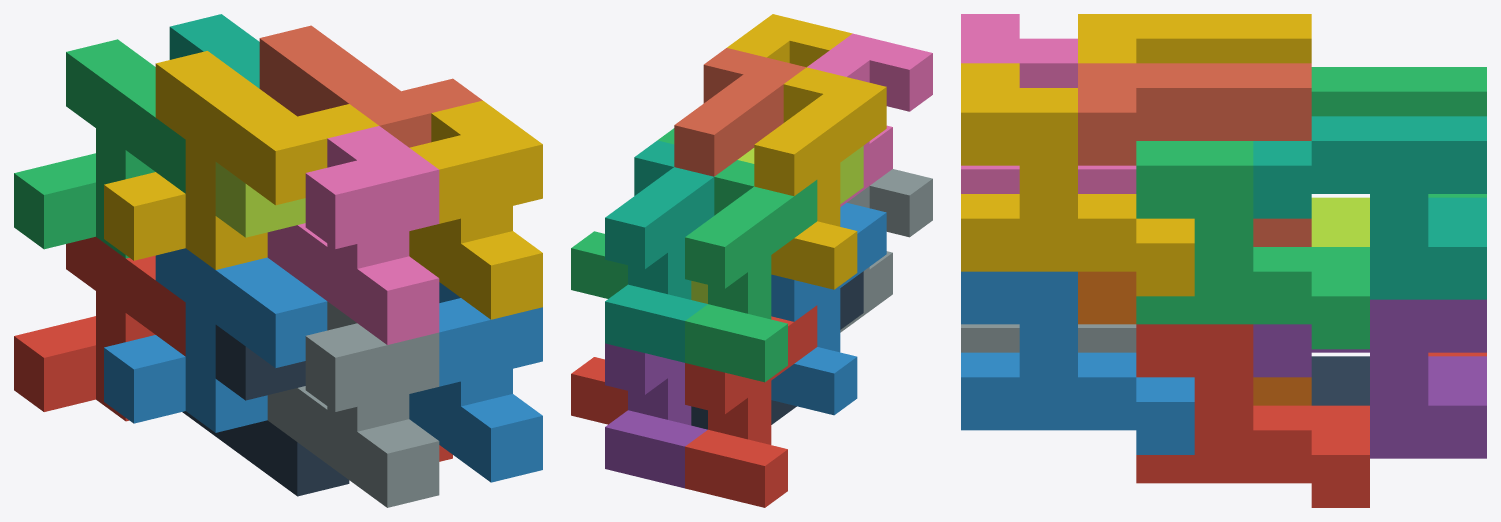
The model's file is tiling.obj.
3 renders of one model, left to right at view 1: azimuth 30°, elevation 25°; view 2: azimuth 150°, elevation 25°; view 3: azimuth 270°, elevation 25°, orthographic. The views are drawn at different scales.
Visible parts, largest first — view 1: copy_1_domain_4, copy_2_domain_4, copy_1_domain_2, copy_2_domain_2, copy_2_domain_8, copy_1_domain_3, copy_2_domain_6, copy_1_domain_1, copy_1_domain_8, copy_2_domain_1, copy_1_domain_7, copy_2_domain_3; view 2: copy_1_domain_3, copy_1_domain_4, copy_1_domain_7, copy_1_domain_1, copy_1_domain_8, copy_1_domain_5, copy_1_domain_2, copy_2_domain_4, copy_2_domain_2, copy_2_domain_8, copy_2_domain_7, copy_2_domain_5 (+2 smaller); view 3: copy_2_domain_8, copy_1_domain_7, copy_2_domain_7, copy_2_domain_6, copy_2_domain_5, copy_1_domain_5, copy_1_domain_8, copy_1_domain_4, copy_2_domain_4, copy_1_domain_3, copy_1_domain_6, copy_2_domain_2 (+2 smaller).
Boxes of the visible parts, left/top/right/bottom form: copy_1_domain_4: left=104, top=51, right=378, bottom=269; copy_2_domain_4: left=267, top=126, right=439, bottom=344; copy_1_domain_2: left=104, top=248, right=327, bottom=432; copy_2_domain_2: left=267, top=301, right=439, bottom=507; copy_2_domain_8: left=409, top=100, right=542, bottom=319; copy_1_domain_3: left=14, top=39, right=185, bottom=258; copy_2_domain_6: left=409, top=282, right=542, bottom=482; copy_1_domain_1: left=14, top=236, right=185, bottom=421; copy_1_domain_8: left=259, top=25, right=482, bottom=147; copy_2_domain_1: left=182, top=325, right=349, bottom=496; copy_1_domain_7: left=169, top=14, right=259, bottom=88; copy_2_domain_3: left=215, top=162, right=305, bottom=237; copy_1_domain_3: left=685, top=160, right=817, bottom=382; copy_1_domain_4: left=754, top=67, right=886, bottom=289; copy_1_domain_7: left=605, top=140, right=714, bottom=362; copy_1_domain_1: left=685, top=305, right=817, bottom=507; copy_1_domain_8: left=674, top=48, right=805, bottom=176; copy_1_domain_5: left=605, top=343, right=707, bottom=488; copy_1_domain_2: left=771, top=202, right=886, bottom=415; copy_2_domain_4: left=807, top=33, right=932, bottom=206; copy_2_domain_2: left=840, top=169, right=932, bottom=332; copy_2_domain_8: left=727, top=14, right=852, bottom=67; copy_2_domain_7: left=571, top=128, right=674, bottom=298; copy_2_domain_5: left=571, top=357, right=627, bottom=424; copy_2_domain_8: left=961, top=63, right=1194, bottom=296; copy_1_domain_7: left=1253, top=116, right=1486, bottom=299; copy_2_domain_7: left=1136, top=141, right=1369, bottom=349; copy_2_domain_6: left=961, top=271, right=1194, bottom=454; copy_2_domain_5: left=1136, top=324, right=1369, bottom=507; copy_1_domain_5: left=1253, top=299, right=1486, bottom=458; copy_1_domain_8: left=1078, top=63, right=1311, bottom=246; copy_1_domain_4: left=1078, top=14, right=1311, bottom=63; copy_2_domain_4: left=961, top=14, right=1136, bottom=193; copy_1_domain_3: left=1311, top=67, right=1486, bottom=197; copy_1_domain_6: left=1078, top=271, right=1311, bottom=405; copy_2_domain_2: left=961, top=324, right=1136, bottom=352.
Bounding box in the file's own units: 6 × 7 × 9.
